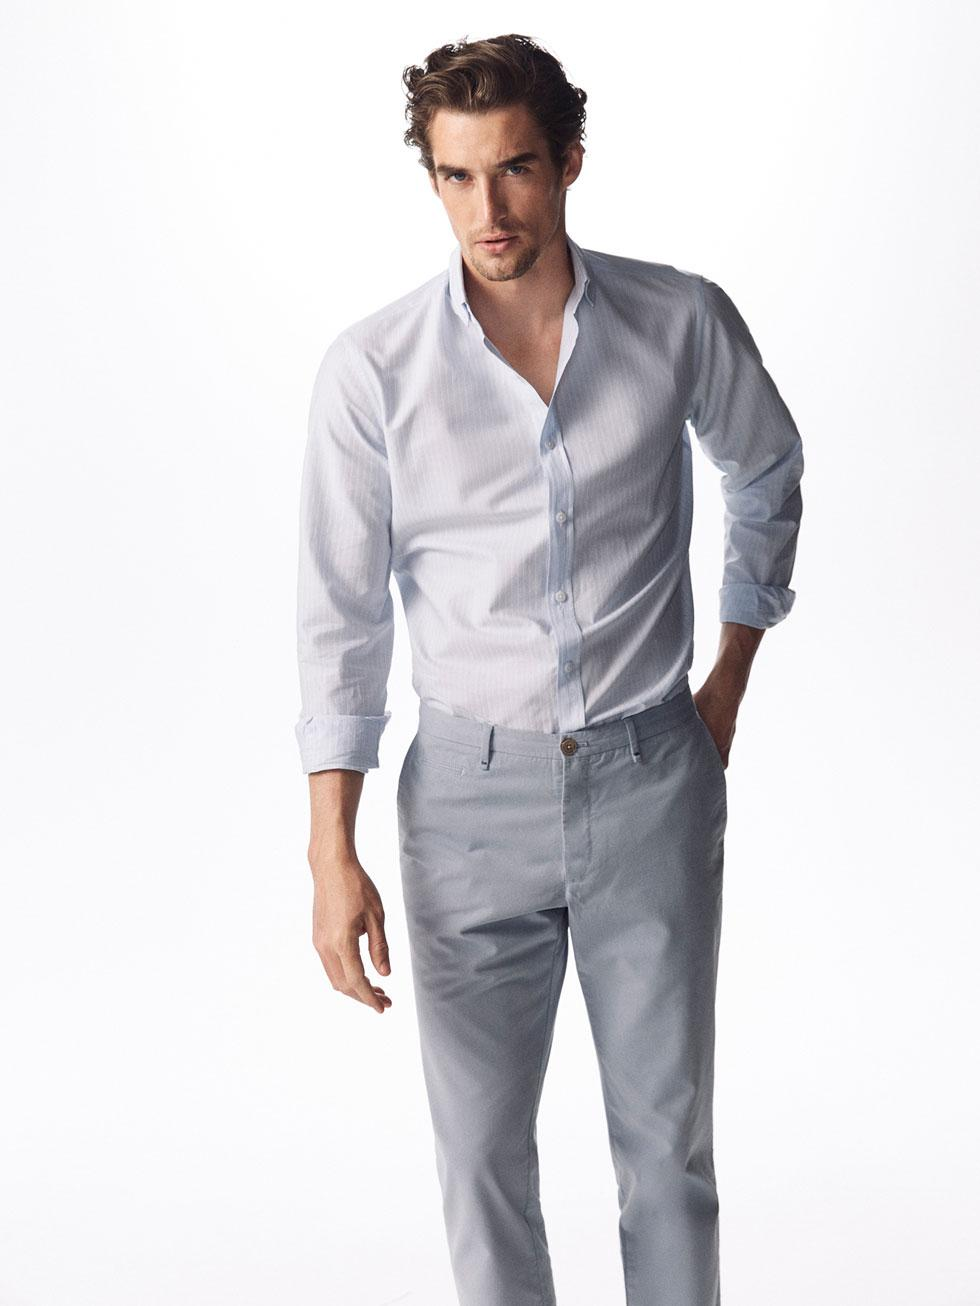teeshirt: (283, 227, 825, 817)
